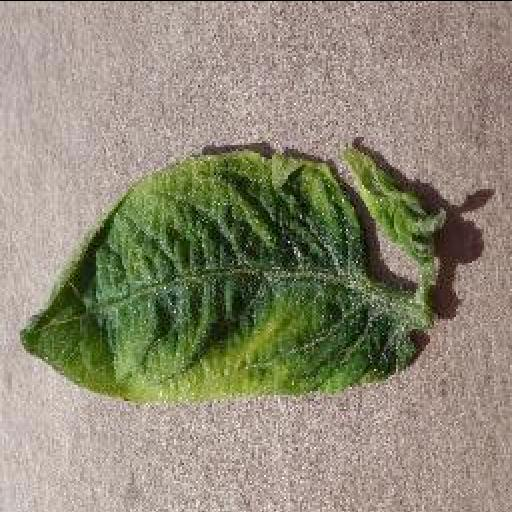disease_tomato: (17, 146, 423, 406)
